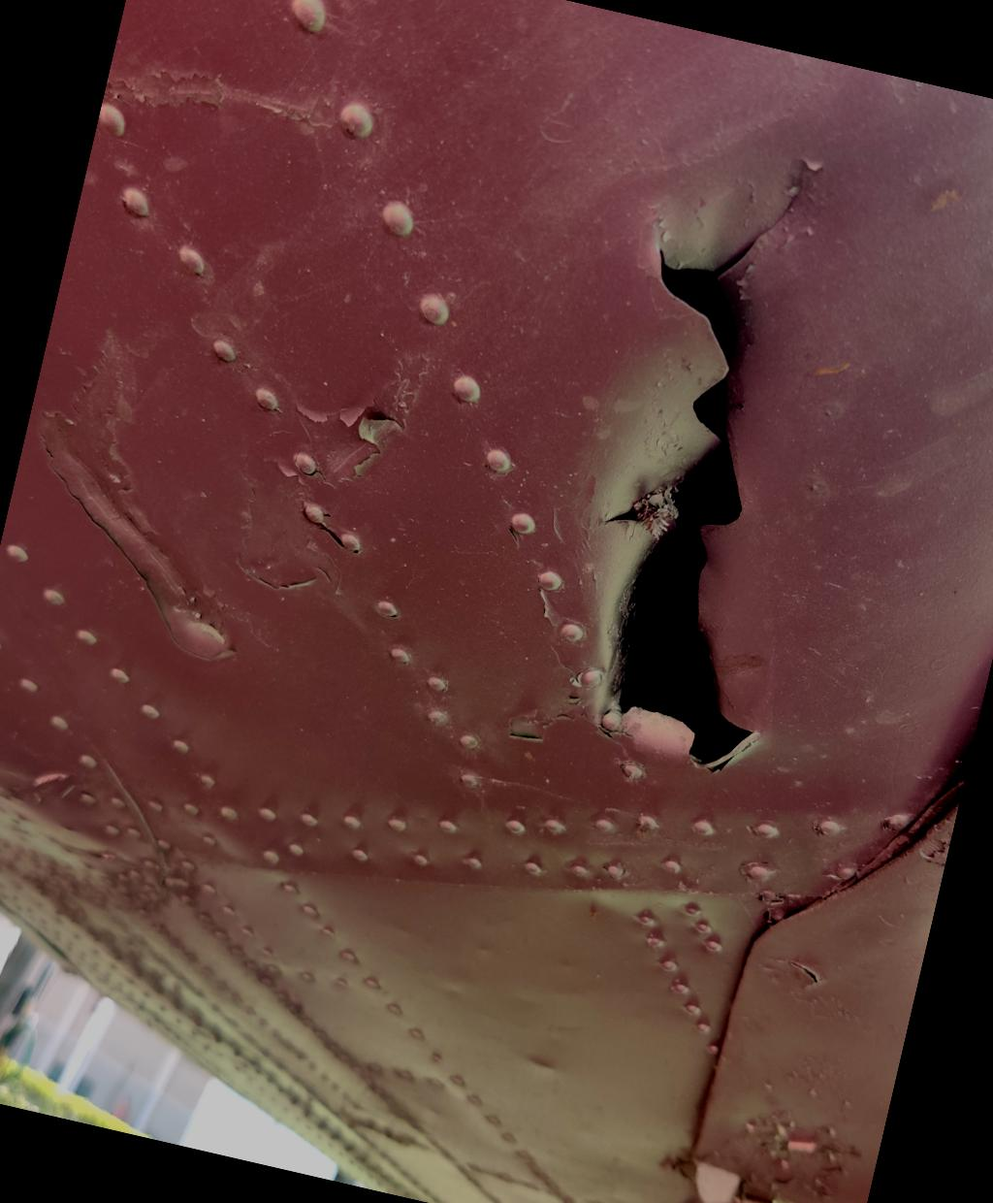corrosion: (245, 357, 436, 582)
crack: (500, 141, 906, 815)
